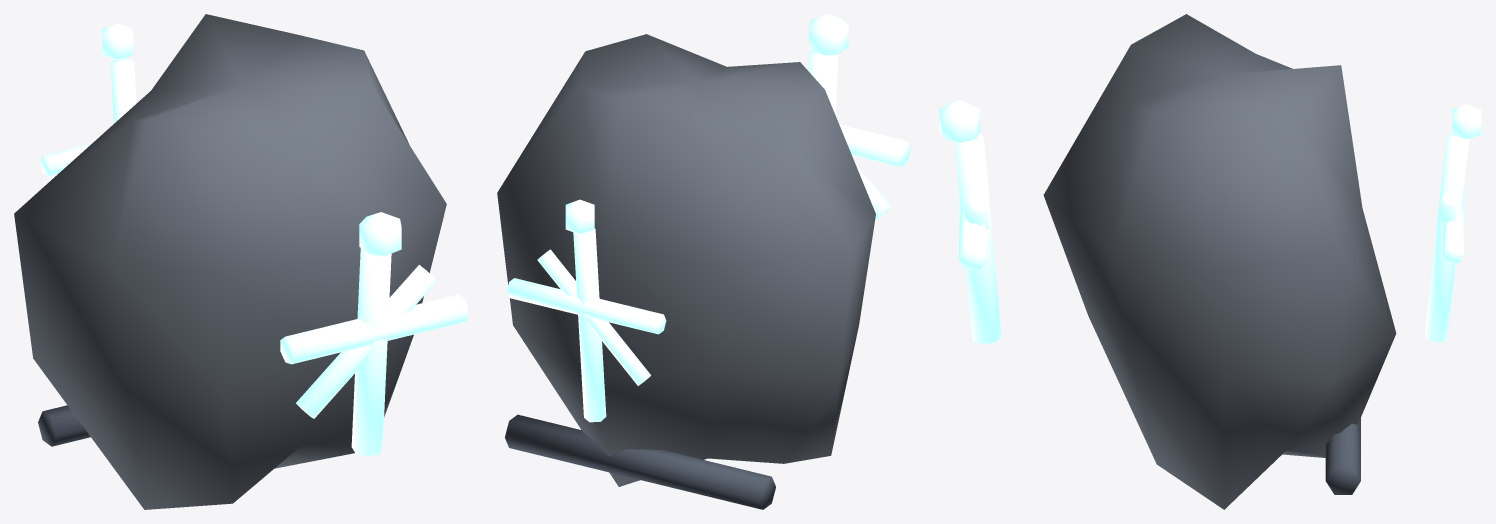
The model's file is xy_item_glyph_stone.glb.
3 renders of one model, left to right at view 1: azimuth 30°, elevation 25°; view 2: azimuth 150°, elevation 25°; view 3: azimuth 270°, elevation 25°, orthographic. The views are drawn at different scales.
Visible parts, largest first — view 1: GlyphStone, GlyphBack; view 2: GlyphStone, GlyphBack; view 3: GlyphStone, GlyphBack.
Boxes of the visible parts, <box> form: GlyphStone: <box>14,14,446,509</box>; GlyphBack: <box>280,212,468,456</box>; GlyphStone: <box>497,34,875,509</box>; GlyphBack: <box>808,14,910,220</box>; GlyphStone: <box>1043,14,1481,509</box>; GlyphBack: <box>939,100,1001,344</box>.
Bounding box in the file's own units: 0.9318 × 0.9892 × 1.23.
